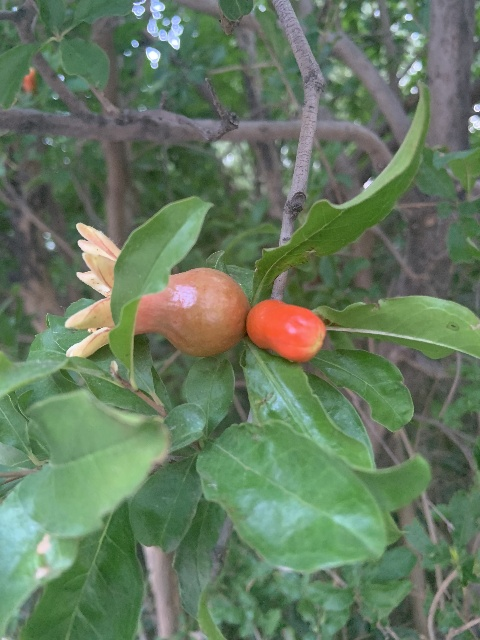bud: (246, 299, 325, 363)
early-fruit: (63, 221, 247, 360)
